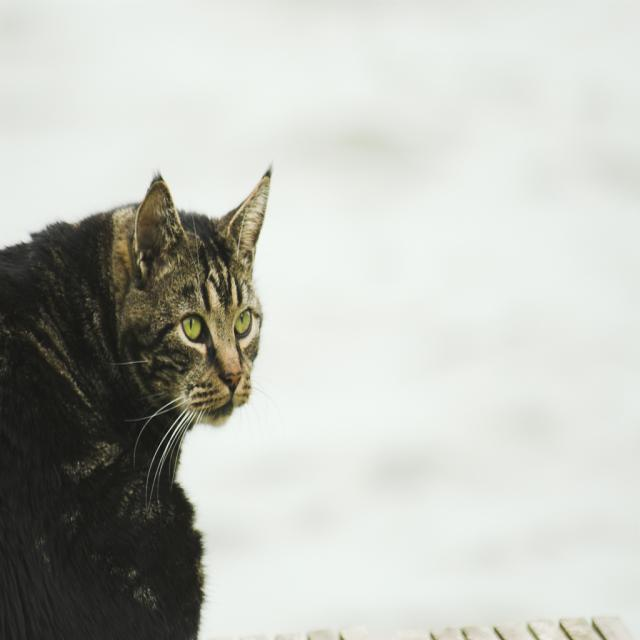left eye: (232, 305, 254, 339)
